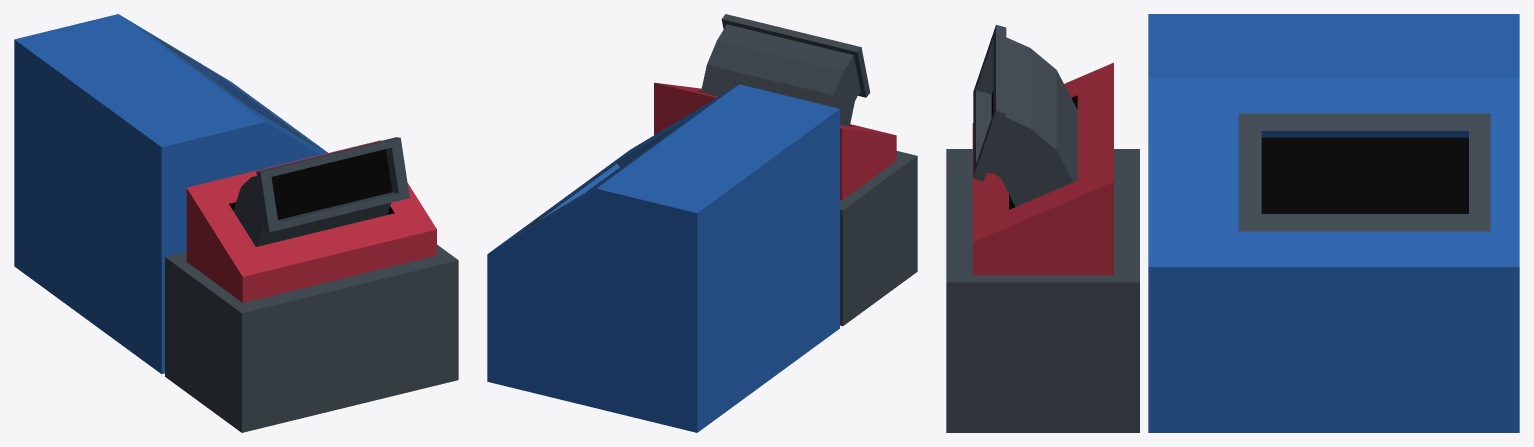
The model's file is lost_machine.fbx.
The picture shows the model from 3 angles, left to right: view 1: azimuth 30°, elevation 25°; view 2: azimuth 150°, elevation 25°; view 3: azimuth 270°, elevation 25°; orthographic projection. The views are drawn at different scales.
Parts seen in each view (by area): view 1: stanok; view 2: stanok; view 3: stanok.
Boxes of the visible parts, <box> form: stanok: <box>14,14,458,432</box>; stanok: <box>487,14,917,432</box>; stanok: <box>946,14,1519,432</box>.
Size of the model in its own units: 51.37 by 53.67 by 93.38.
